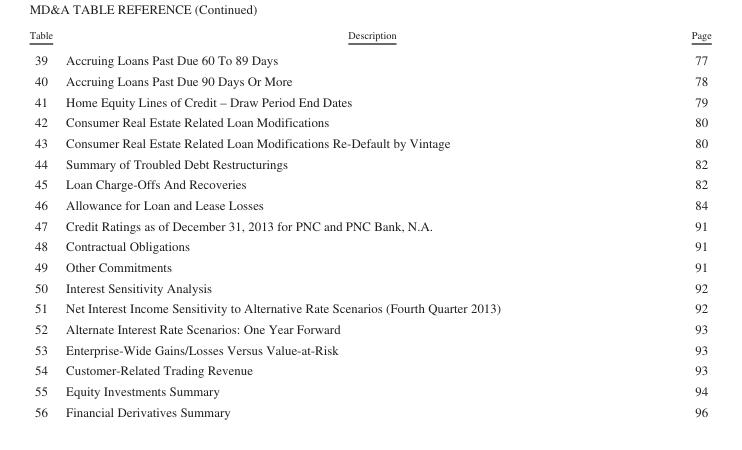table: (28, 29, 710, 418)
table column: (58, 29, 595, 418), (595, 29, 710, 418), (28, 29, 58, 418)
table column header: (28, 29, 710, 46)
table row: (28, 46, 710, 70), (28, 90, 710, 111), (28, 111, 710, 132), (28, 152, 710, 173), (28, 173, 710, 194), (28, 214, 710, 235), (28, 235, 710, 256), (28, 276, 710, 297), (28, 297, 710, 318), (28, 338, 710, 359), (28, 359, 710, 380), (28, 70, 710, 90), (28, 132, 710, 152), (28, 194, 710, 214), (28, 256, 710, 276), (28, 318, 710, 338), (28, 380, 710, 400), (28, 400, 710, 418), (28, 29, 710, 46)
